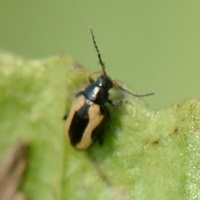insect: (65, 29, 153, 149), (65, 29, 153, 148)
